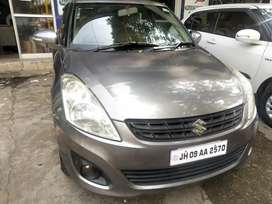JH09AA2570: (170, 139, 227, 166)
